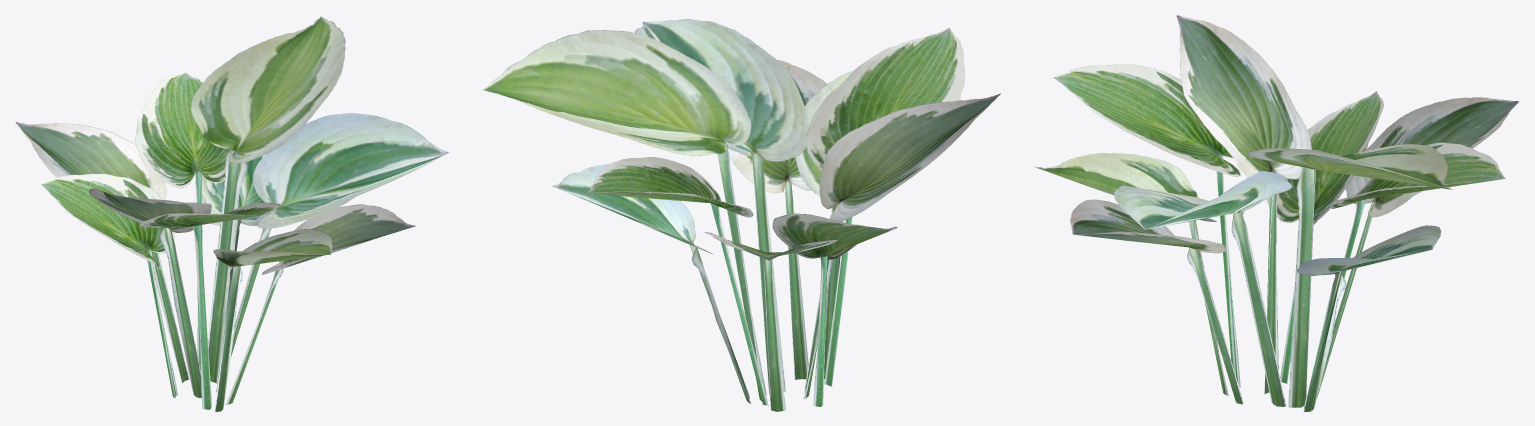
Rendered from plant_small_wg_00I_wild.fbx.
The picture shows the model from 3 angles, left to right: view 1: azimuth 30°, elevation 25°; view 2: azimuth 150°, elevation 25°; view 3: azimuth 270°, elevation 25°; orthographic projection. The views are drawn at different scales.
Parts seen in each view (by area): view 1: plant_small_wg_00I_wild; view 2: plant_small_wg_00I_wild; view 3: plant_small_wg_00I_wild.
Part boxes in pixels (x1,y1,x2,y2): plant_small_wg_00I_wild: [15, 16, 448, 411]; plant_small_wg_00I_wild: [482, 19, 1000, 411]; plant_small_wg_00I_wild: [1034, 15, 1518, 411].
Size of the model in its own units: 51.01 by 44.11 by 56.15.
